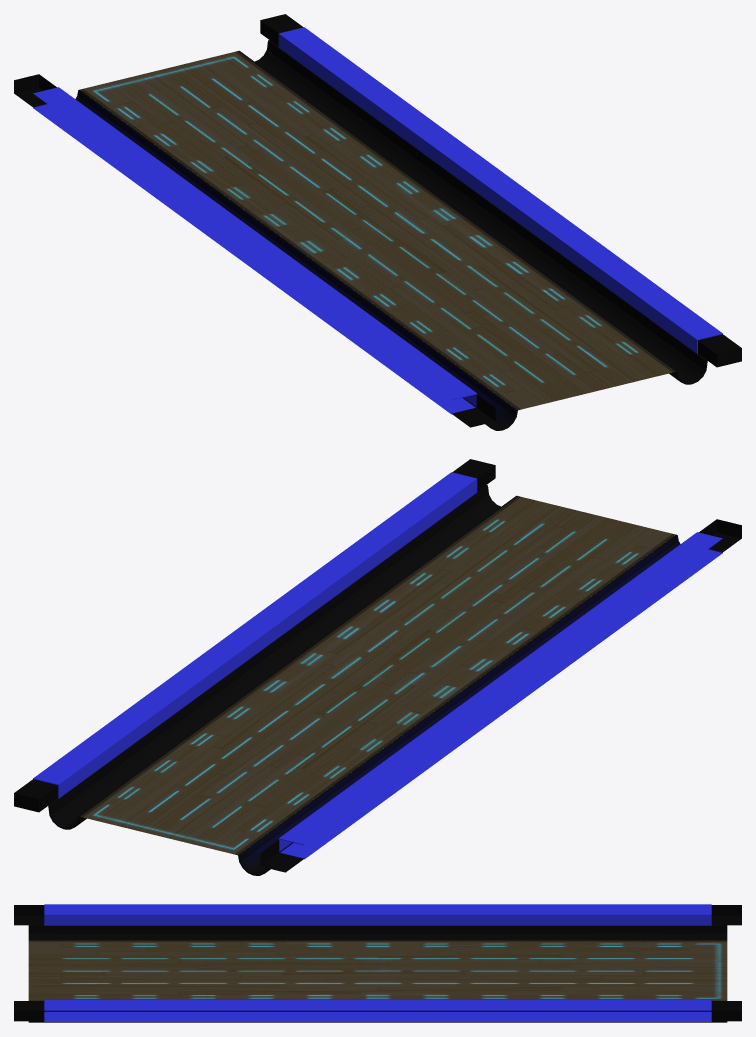
The model's file is BowlingAlley.dae.
The picture shows the model from 3 angles, top to bottom: view 1: azimuth 30°, elevation 25°; view 2: azimuth 150°, elevation 25°; view 3: azimuth 270°, elevation 25°; orthographic projection. The views are drawn at different scales.
Visible parts, largest first — view 1: GutterLeft_004; view 2: GutterLeft_004; view 3: GutterLeft_004.
Part boxes in pixels (x1,y1,x2,y2): GutterLeft_004: (14, 14, 741, 430); GutterLeft_004: (14, 459, 741, 875); GutterLeft_004: (14, 904, 741, 1022).
Bounding box in the file's own units: 4.29 × 12.5 × 0.5105.
Materials: 4 (4 with a texture image).
